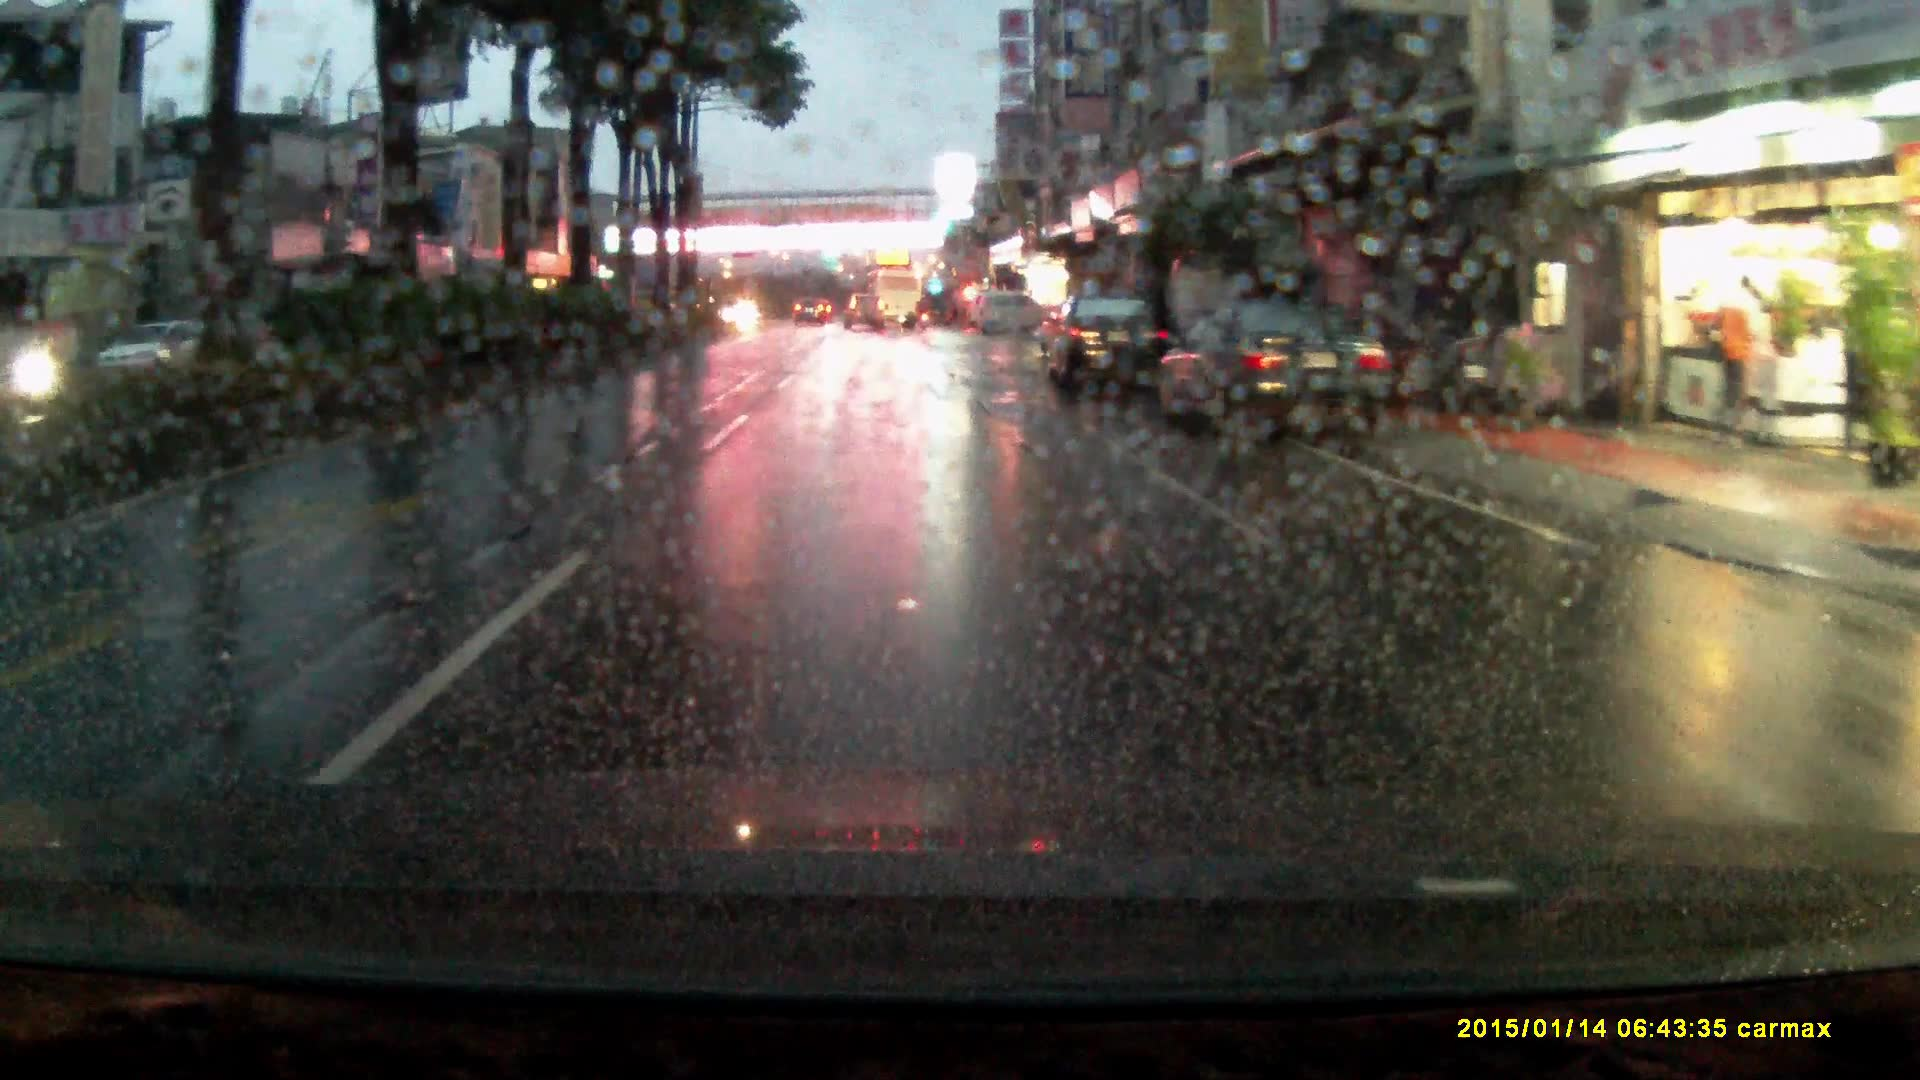vehicle: (1149, 303, 1404, 450), (1044, 295, 1180, 407), (94, 322, 232, 386), (971, 291, 1051, 342), (865, 272, 923, 332), (844, 294, 886, 335), (796, 301, 829, 328)
